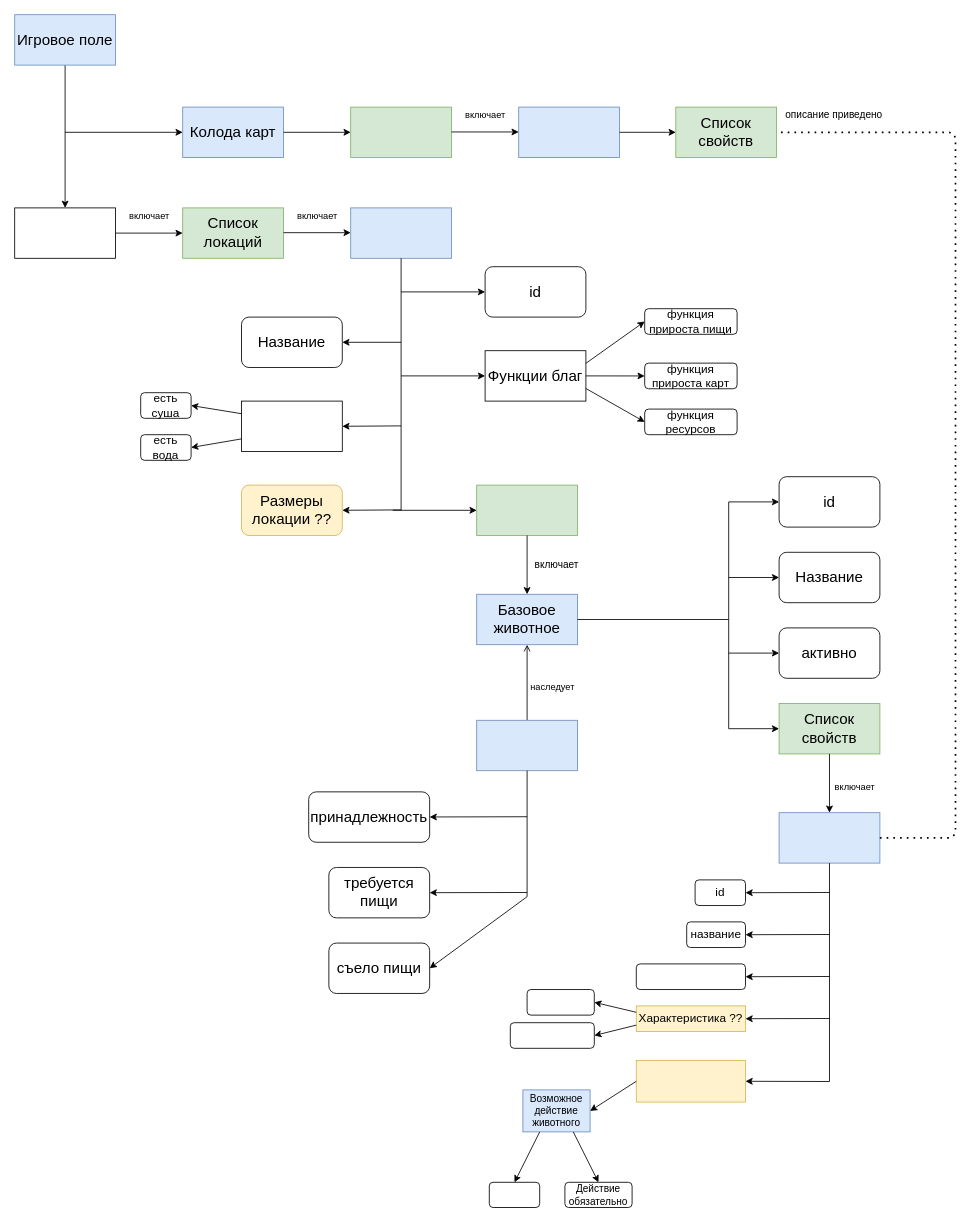
This 972x1222 diagram has some shape labels left out. Here are the shapes that lost their labels. From the top down, the centre of each, then its label:
At point 401,132: "Коллекция карт".
At point 569,132: "Карта".
At point 65,232: "Граф локаций".
At point 401,232: "Локация".
At point 291,426: "Топология локации".
At point 527,510: "Список животных".
At point 527,745: "Животное игрока".
At point 829,837: "Свойство животного".
At point 690,976: "изменение требуемой пищи".
At point 560,1002: "атакующее".
At point 551,1035: "защищающее".
At point 690,1081: "Список открываемых действий ??".
At point 514,1194: "Тип действия".
